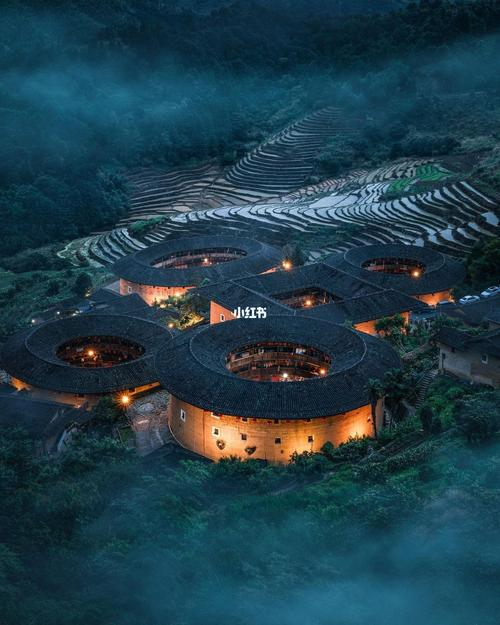mountain: (10, 430, 492, 617), (19, 32, 453, 230)
